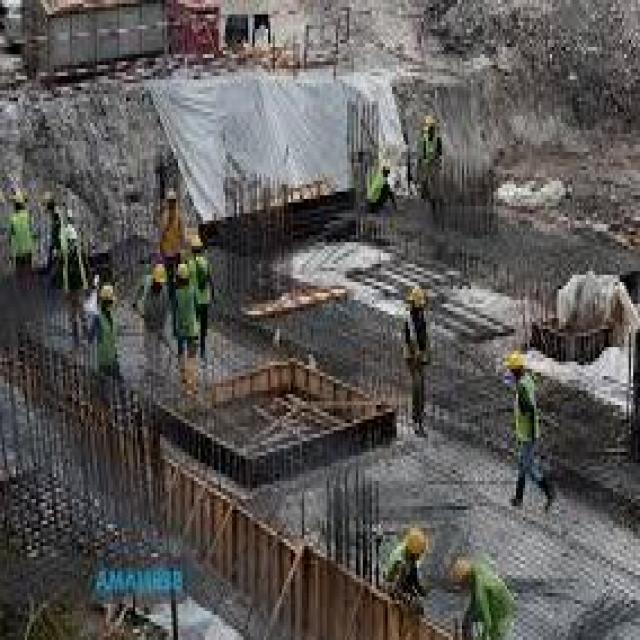Reflective-Jacket: (194, 257, 216, 307)
Safety-Helmet: (401, 524, 428, 564), (502, 347, 528, 376), (406, 282, 428, 315), (151, 260, 169, 290), (99, 282, 115, 307), (174, 260, 192, 282), (189, 232, 205, 253)
